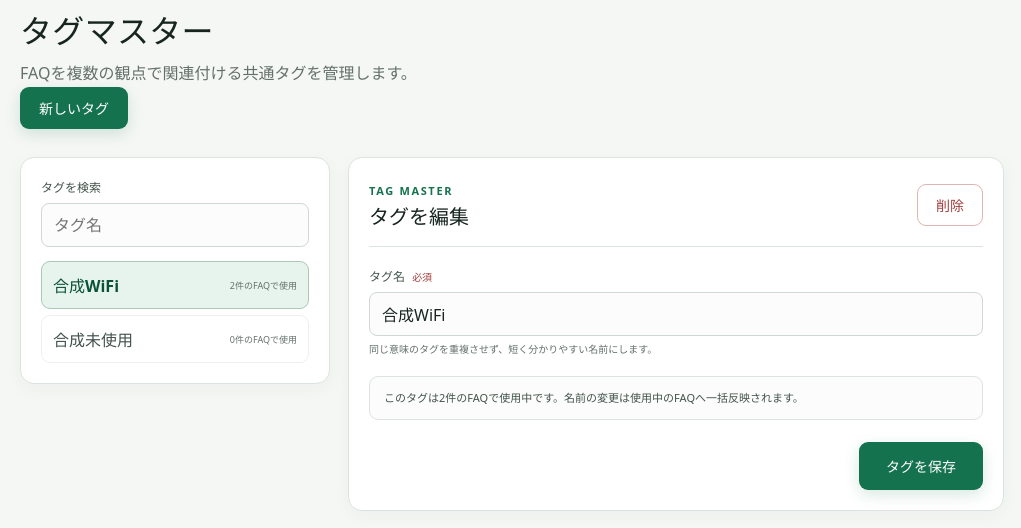
TagsPage C# migration contracts › shows usage counts and filters full-width names without changing the selection
Expected: the button "合成WiFi 2件のFAQで使用" is shown, left=41, top=261, right=309, bottom=309
Expected: the field labelled "タグ名 必須" holds "合成WiFi", left=369, top=292, right=983, bottom=336
Step 1. Type "ｗｉｆｉ" into the search field labelled "タグを検索" → (175, 225), box left=41, top=203, right=309, bottom=247
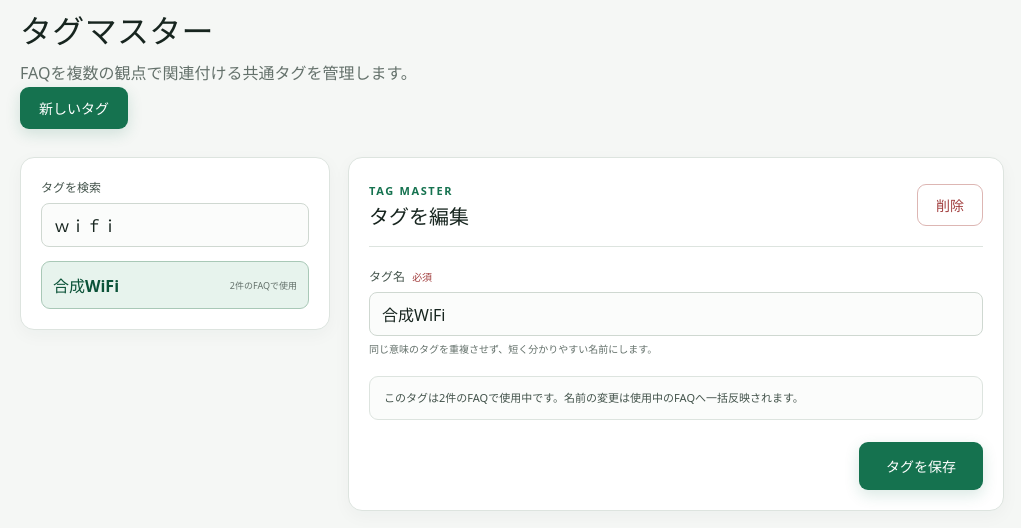
Expected: the button "合成WiFi 2件のFAQで使用" is shown, left=41, top=261, right=309, bottom=309
Now the button "合成未使用 0件のFAQで使用" is gone
